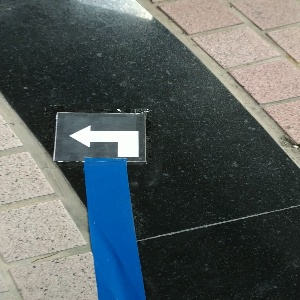left: (56, 110, 146, 161)
